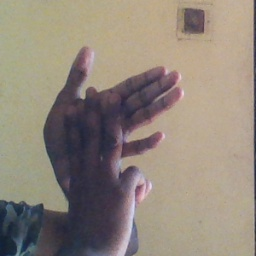M: (38, 45, 186, 205)
